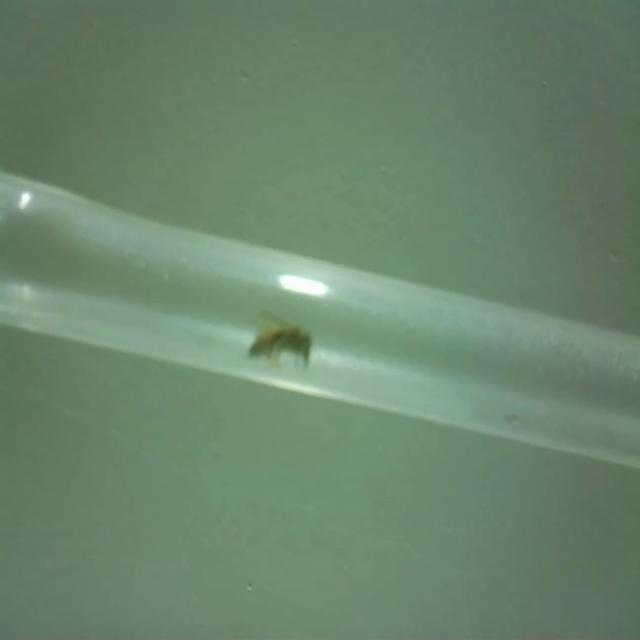Honeybee-Detection: (229, 287, 337, 379)
